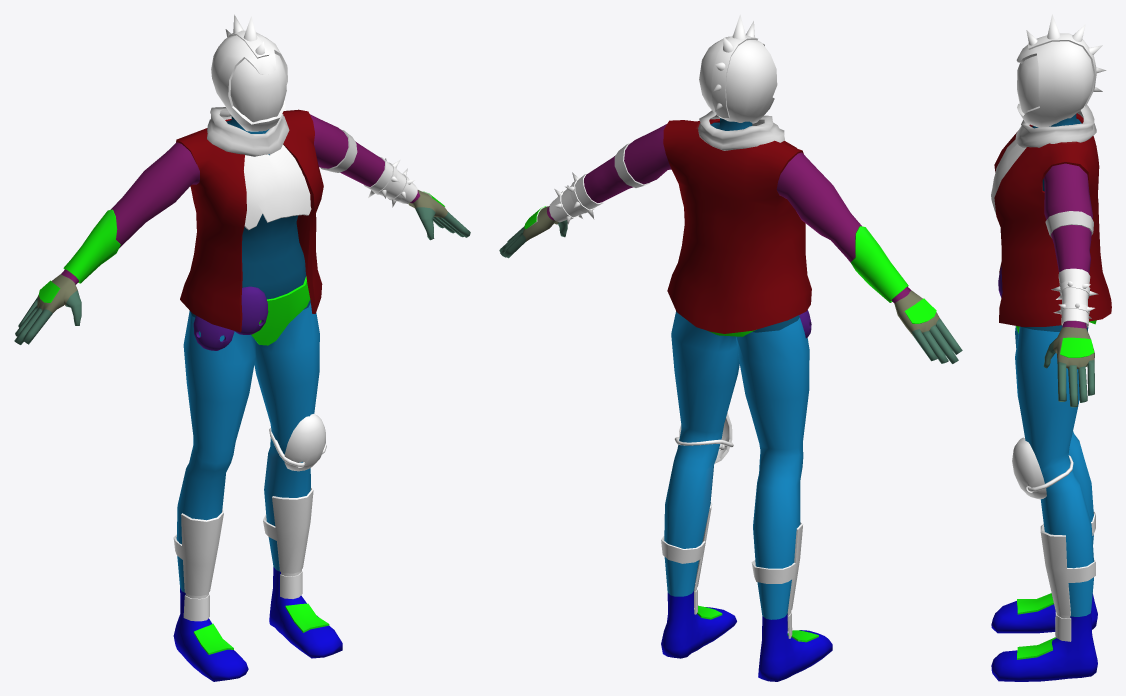
Rendered from Wastelander RoR2.fbx.
3 renders of one model, left to right at view 1: azimuth 30°, elevation 25°; view 2: azimuth 150°, elevation 25°; view 3: azimuth 270°, elevation 25°, orthographic.
Visible parts, largest first — view 1: Body Mesh, Jacket, Shin Guards, Boob plate, Head Outer, Head, Scarf, Forearm GuardR, Crotch Armour, WispKnee, Feet Guards, WispBelt Swee (+2 smaller); view 2: Body Mesh, Jacket, Head Outer, Shin Guards, Forearm GuardR, Scarf, Forearm GuardL, Hand Plate; view 3: Body Mesh, Jacket, Head Outer, Shin Guards, Scarf, WispKnee, Forearm GuardL, Head, Feet Guards, Armband, Boob plate, Hand Plate (+3 smaller).
Boxes of the visible parts, box(x1,y1,x2,y2) form: Body Mesh: box(14, 114, 470, 681); Jacket: box(176, 109, 323, 332); Shin Guards: box(173, 487, 313, 621); Boob plate: box(244, 144, 311, 230); Head Outer: box(211, 30, 287, 131); Head: box(230, 54, 286, 122); Scarf: box(207, 107, 289, 156); Forearm GuardR: box(63, 209, 120, 283); Crotch Armour: box(251, 276, 310, 345); WispKnee: box(284, 414, 325, 471); Feet Guards: box(193, 603, 329, 654); WispBelt Swee: box(234, 286, 268, 334); Body Mesh: box(499, 118, 962, 681); Jacket: box(663, 119, 811, 333); Head Outer: box(699, 35, 777, 123); Shin Guards: box(661, 502, 802, 638); Forearm GuardR: box(850, 226, 908, 302); Scarf: box(698, 110, 784, 150); Forearm GuardL: box(549, 171, 604, 222); Hand Plate: box(524, 206, 936, 323); Body Mesh: box(991, 114, 1097, 681); Jacket: box(994, 113, 1111, 326); Head Outer: box(1016, 33, 1096, 127); Shin Guards: box(1040, 512, 1095, 641); Scarf: box(1015, 105, 1096, 147); WispKnee: box(1012, 437, 1046, 499); Forearm GuardL: box(1058, 268, 1090, 327); Head: box(1017, 55, 1039, 113); Feet Guards: box(1017, 593, 1055, 659); Armband: box(1045, 211, 1093, 237); Boob plate: box(991, 139, 1025, 213); Hand Plate: box(1060, 337, 1094, 357).
Size of the model in its own units: 165 by 37.96 by 220.
